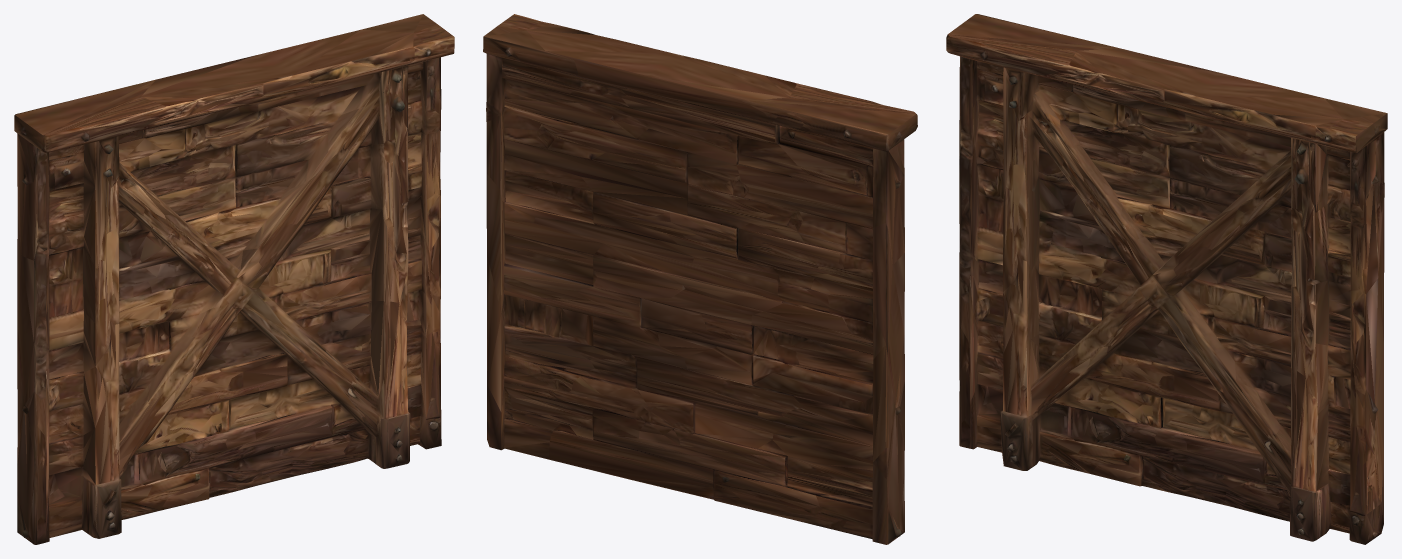
File: wal_west.fbx
The picture shows the model from 3 angles, left to right: view 1: azimuth 30°, elevation 25°; view 2: azimuth 150°, elevation 25°; view 3: azimuth 330°, elevation 25°; orthographic projection.
Parts seen in each view (by area): view 1: wal_west_LOD0; view 2: wal_west_LOD0; view 3: wal_west_LOD0.
Boxes of the visible parts, <box> form: wal_west_LOD0: <box>14,14,454,544</box>; wal_west_LOD0: <box>483,14,917,544</box>; wal_west_LOD0: <box>946,14,1387,544</box>.
Size of what is drawn, in the model's own units: 0.9821 by 0.9422 by 0.1508.
